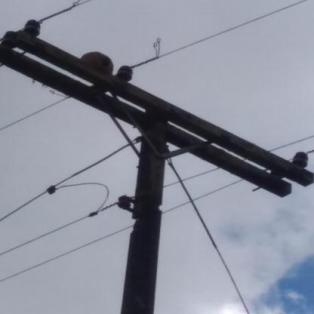Poste: (114, 107, 177, 314)
